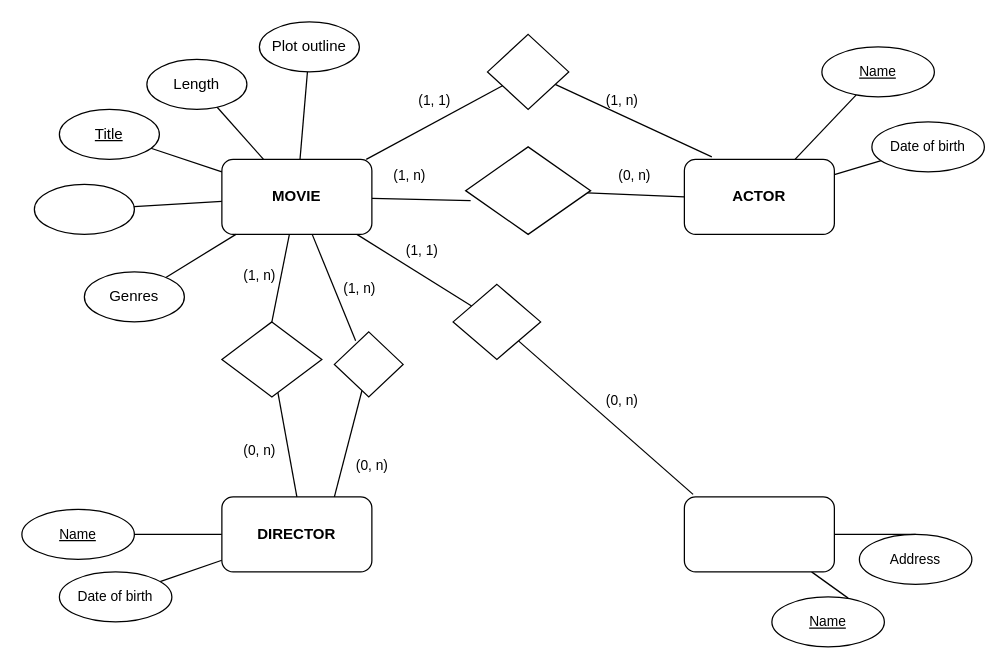
Some shapes in this 1006 by 669 pixel diagram are drawn without their labels. Each missing label, with the box of its shape:
Act: (333, 331, 403, 397)
Direct: (221, 321, 322, 397)
Have a role: (486, 33, 569, 109)
Have quotable quotes: (464, 146, 591, 234)
Produce: (452, 283, 541, 359)
PRODUCTION COMPANY: (683, 496, 834, 572)
Year: (33, 183, 134, 234)
